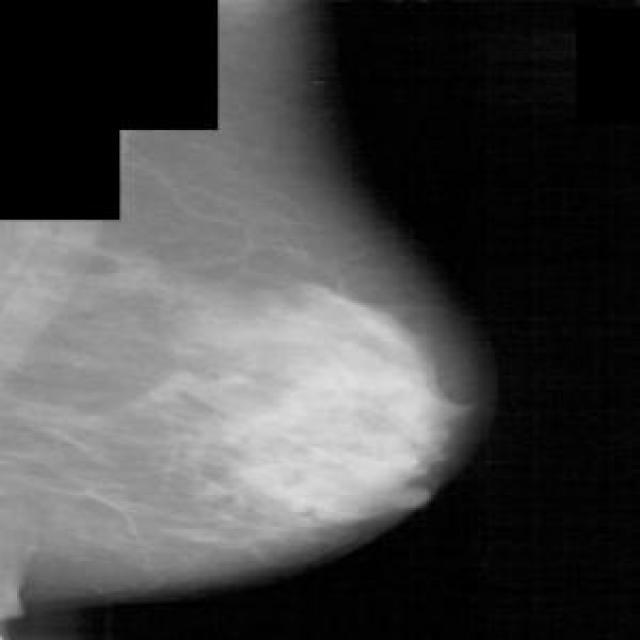tumor: (225, 281, 436, 528)
